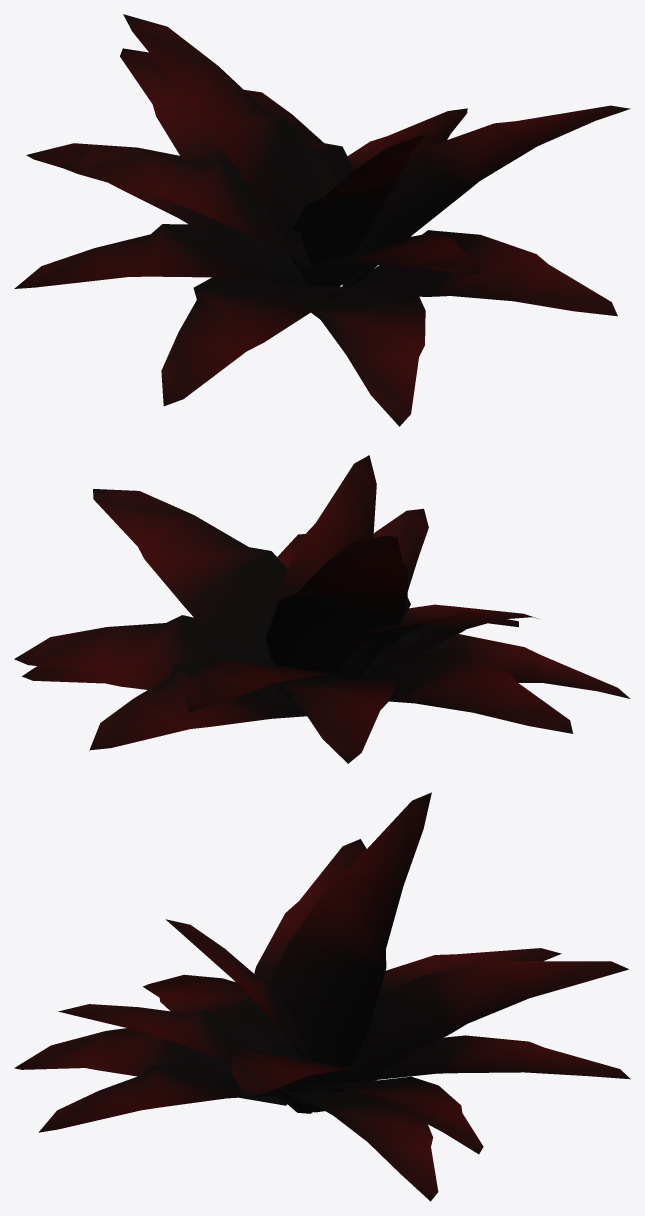
The model's file is Ferns01C.fbx.
3 views of the same model, one above another, from view 1: azimuth 30°, elevation 25°; view 2: azimuth 150°, elevation 25°; view 3: azimuth 270°, elevation 25° (orthographic). The views are drawn at different scales.
Parts seen in each view (by area): view 1: Ferns01C; view 2: Ferns01C; view 3: Ferns01C.
Part boxes in pixels (x1,y1,x2,y2): Ferns01C: (14, 14, 630, 426); Ferns01C: (14, 455, 630, 763); Ferns01C: (14, 792, 630, 1201).
Bounding box in the file's own units: 2.75 × 1.24 × 2.76.
